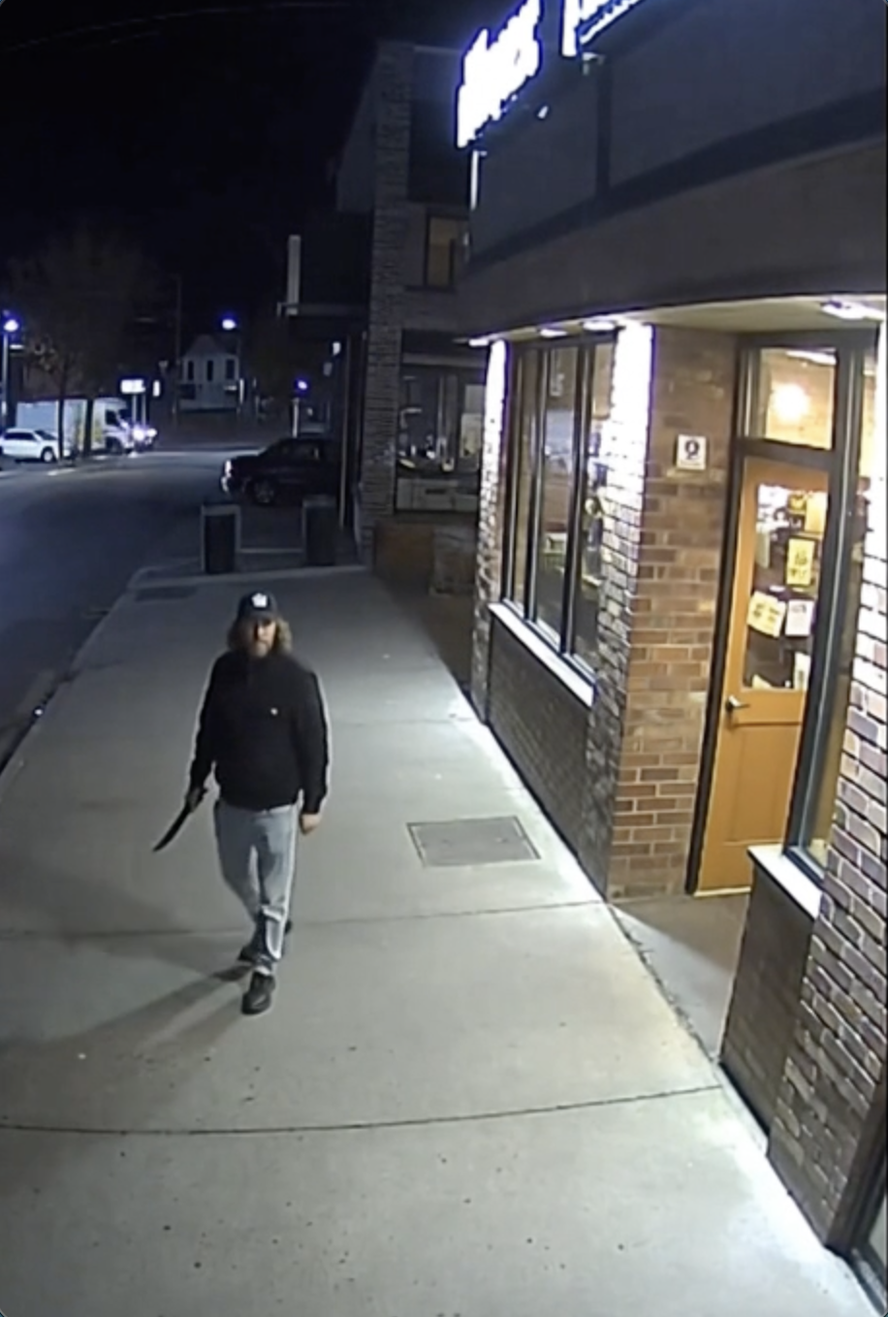Heavy Gun: (186, 590, 334, 1019)
Knife: (144, 791, 199, 858)
